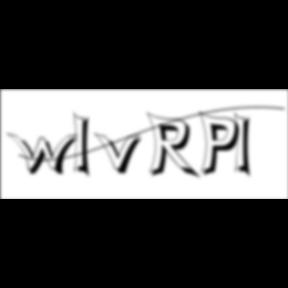I: (73, 110, 97, 182), (234, 110, 258, 182)
P: (200, 110, 246, 180)
R: (148, 112, 205, 182)
v: (94, 131, 148, 177)
w: (7, 132, 85, 178)
